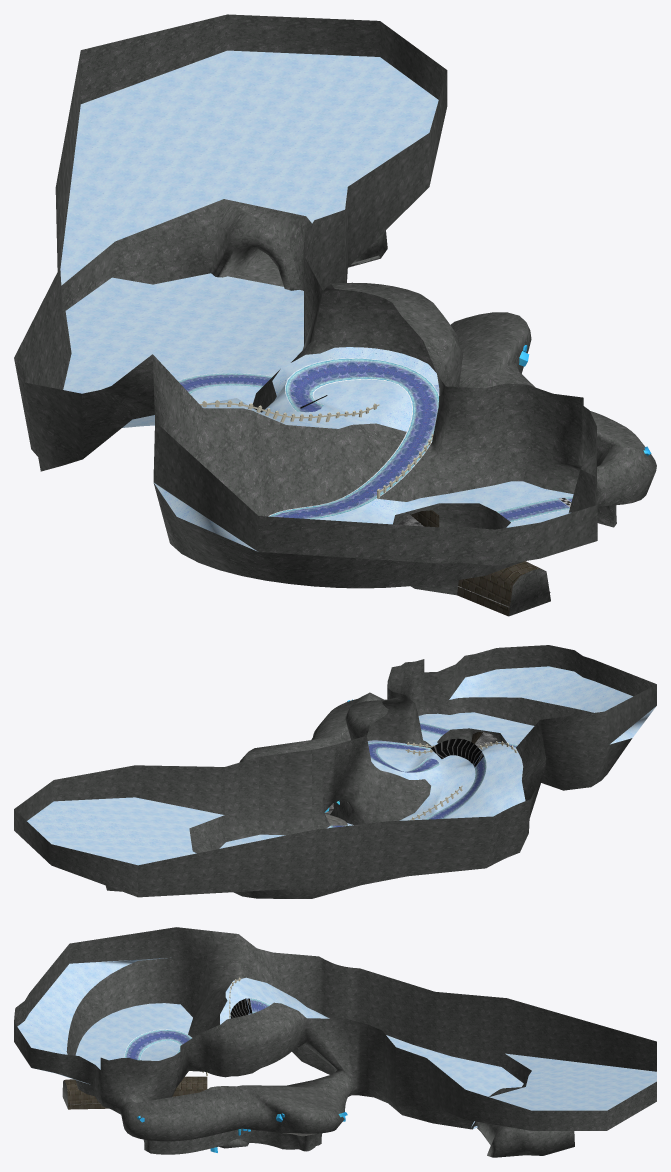
3 renders of one model, top to bottom at view 1: azimuth 30°, elevation 25°; view 2: azimuth 150°, elevation 25°; view 3: azimuth 270°, elevation 25°, orthographic. The views are drawn at different scales.
Parts seen in each view (by area): view 1: Plane.133, Plane.136, Plane.140, Plane.144, Plane.142; view 2: Plane.133, Plane.136, Plane.140, Plane.135, Plane.142; view 3: Plane.133, Plane.136, Plane.144, Plane.140.
Part boxes in pixels (left/top/right/bottom): Plane.133: left=14, top=14, right=656, bottom=616; Plane.136: left=60, top=50, right=573, bottom=551; Plane.140: left=178, top=358, right=572, bottom=522; Plane.144: left=410, top=510, right=544, bottom=616; Plane.142: left=199, top=400, right=433, bottom=498; Plane.133: left=14, top=645, right=656, bottom=898; Plane.136: left=27, top=666, right=656, bottom=865; Plane.140: left=330, top=722, right=517, bottom=827; Plane.135: left=431, top=738, right=481, bottom=764; Plane.142: left=405, top=741, right=516, bottom=820; Plane.133: left=14, top=927, right=656, bottom=1157; Plane.136: left=17, top=957, right=656, bottom=1129; Plane.144: left=64, top=1076, right=207, bottom=1109; Plane.140: left=124, top=998, right=270, bottom=1060.
Size of the model in its own units: 101283 by 35054 by 162137.
Materials: 16 (16 with a texture image).
